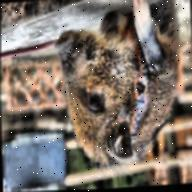boar: (52, 0, 191, 182)
